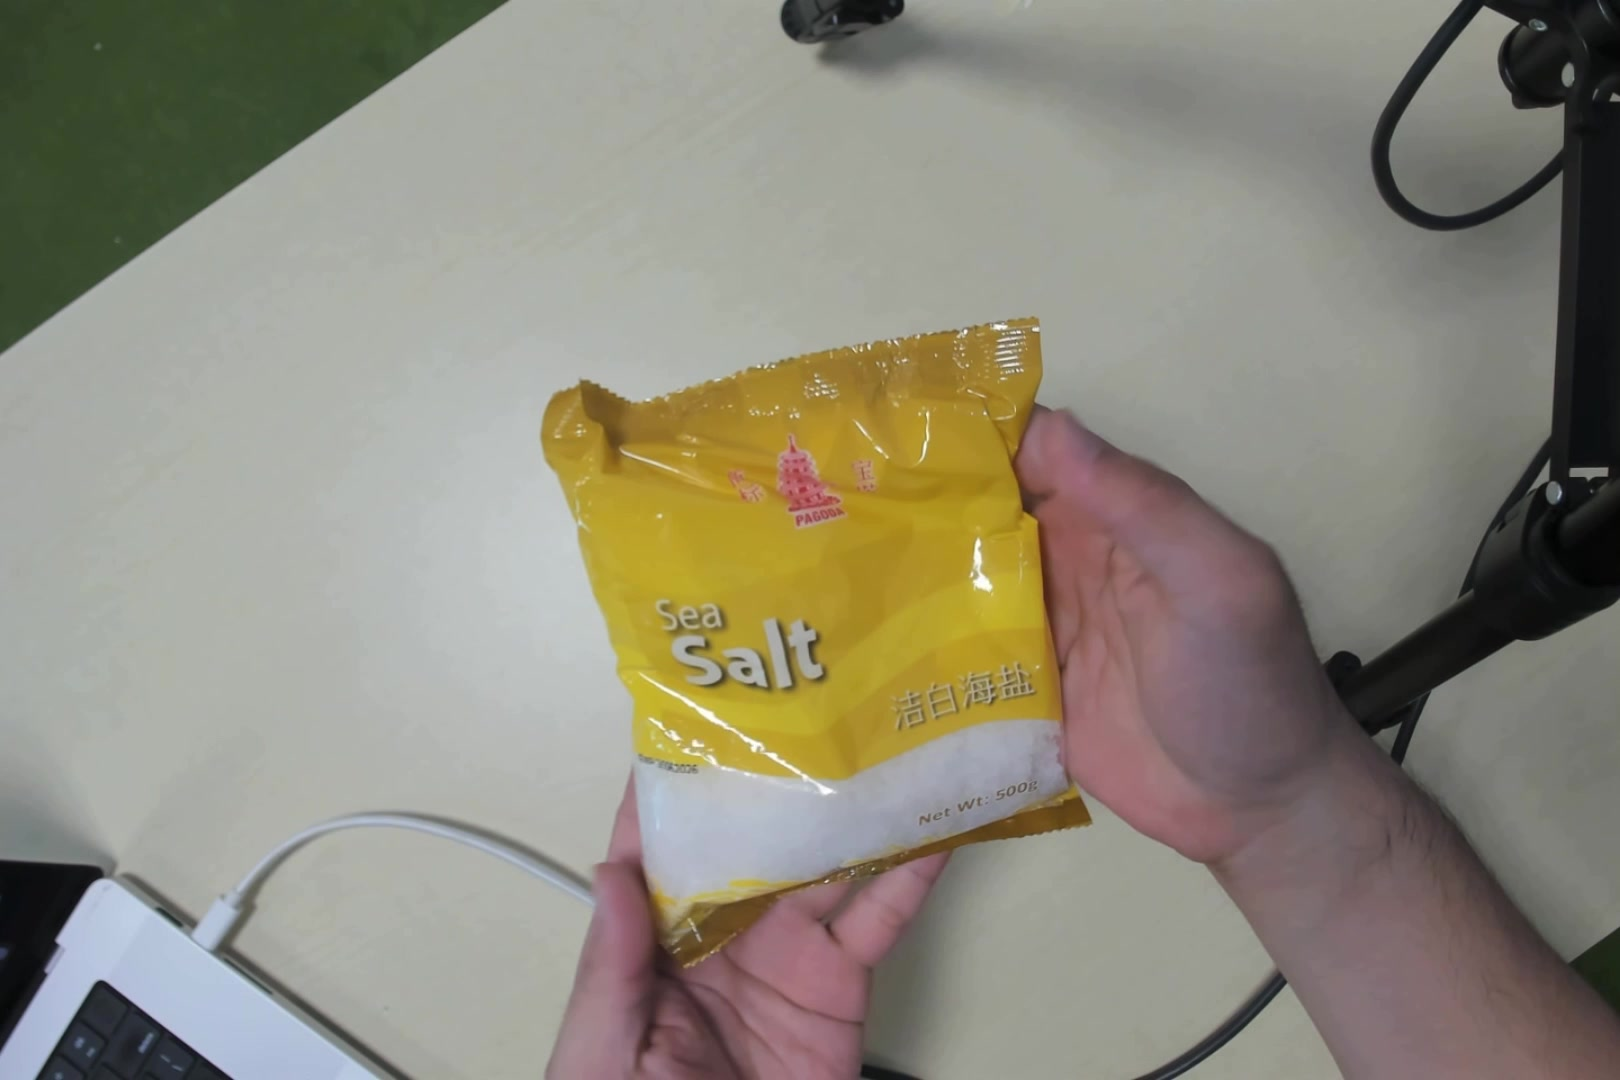Salt_500-599g_Halal_NonHealthy: (593, 356, 1082, 865)
